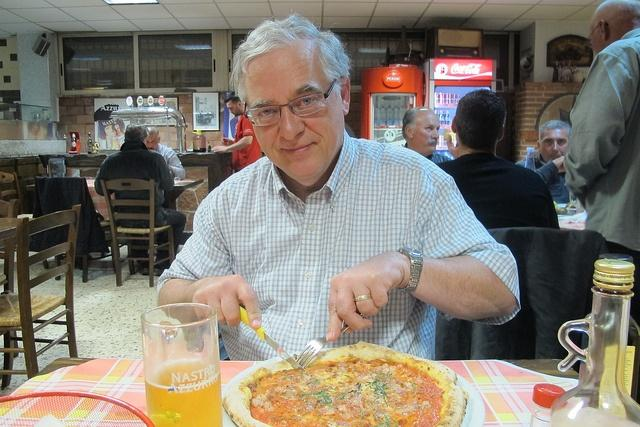Kursi: (0, 202, 83, 381), (100, 176, 174, 288)
